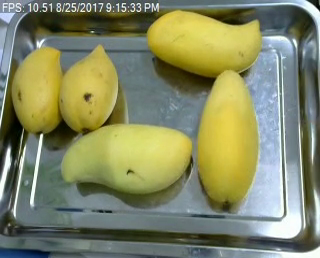Mango: (60, 123, 194, 195), (194, 68, 262, 205), (146, 7, 261, 76), (57, 44, 119, 132), (11, 44, 67, 132)
